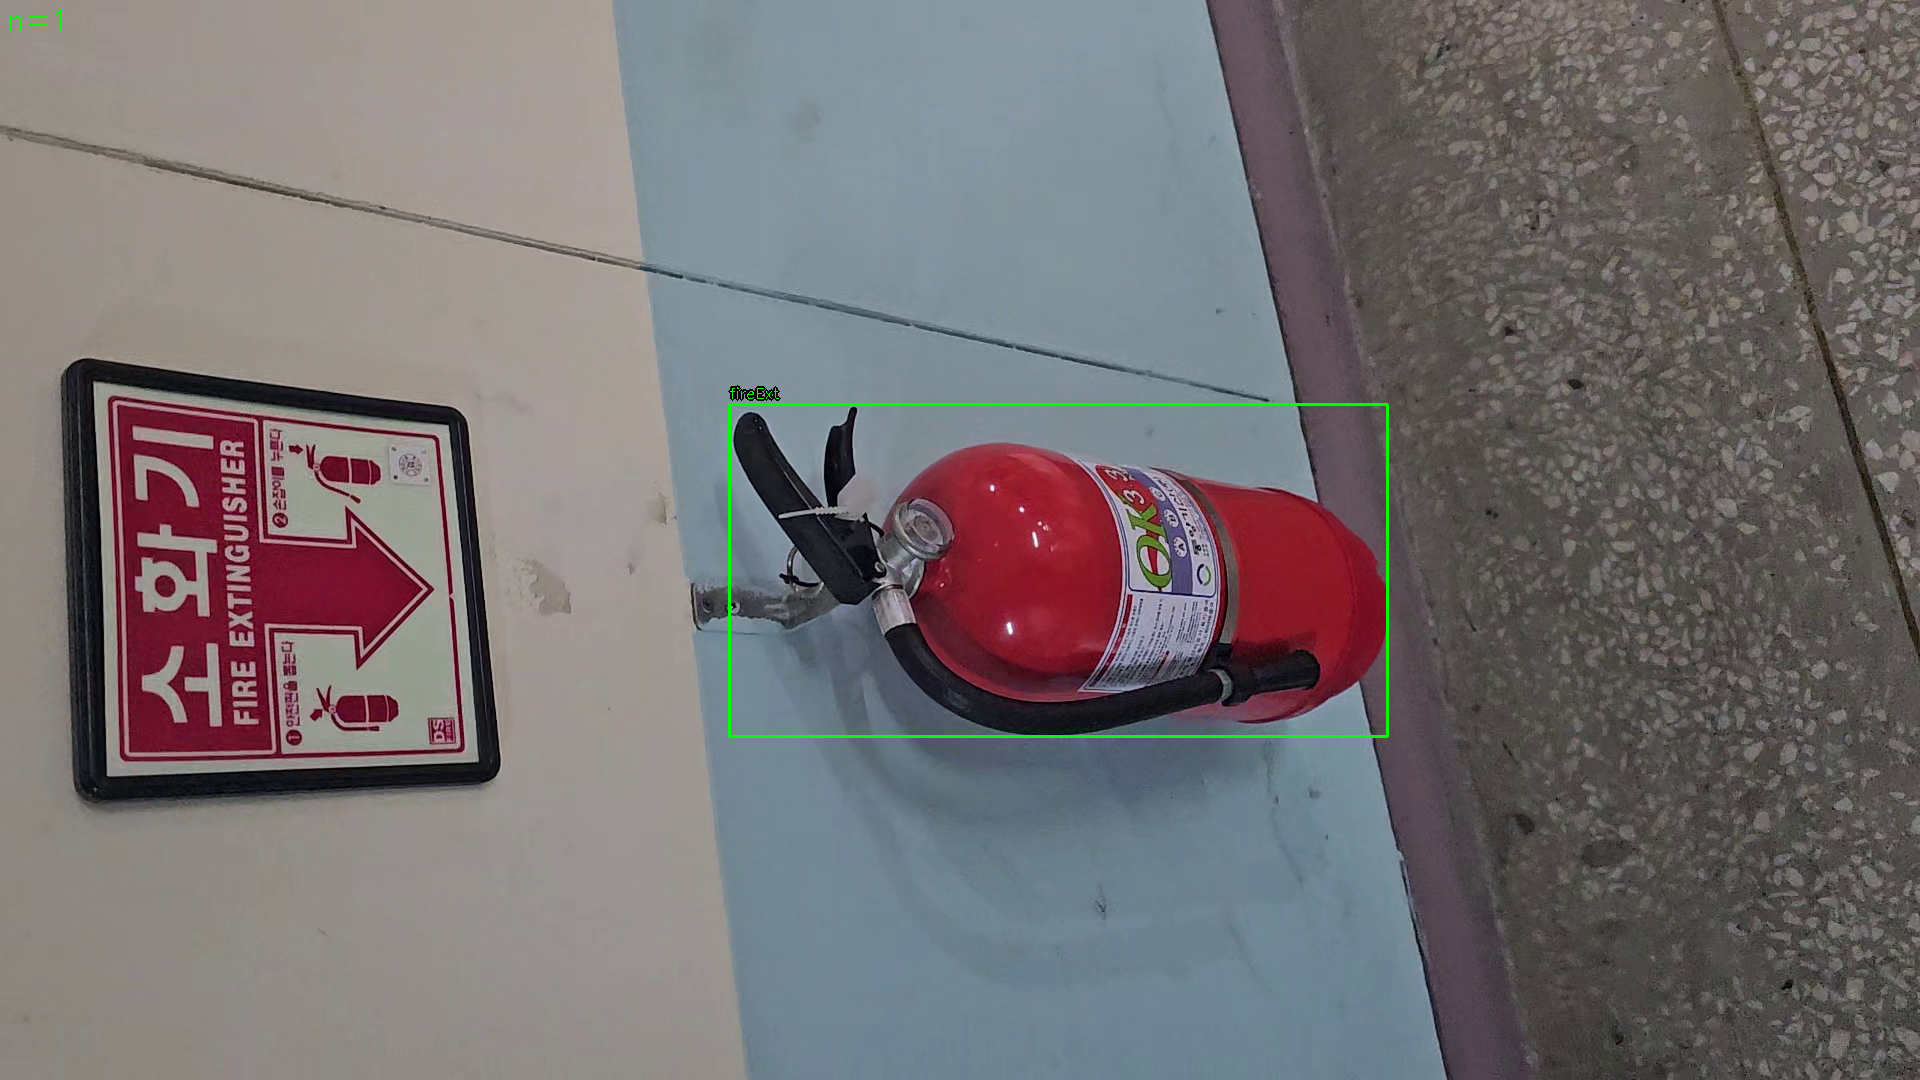lane: (729, 404, 1389, 737)
